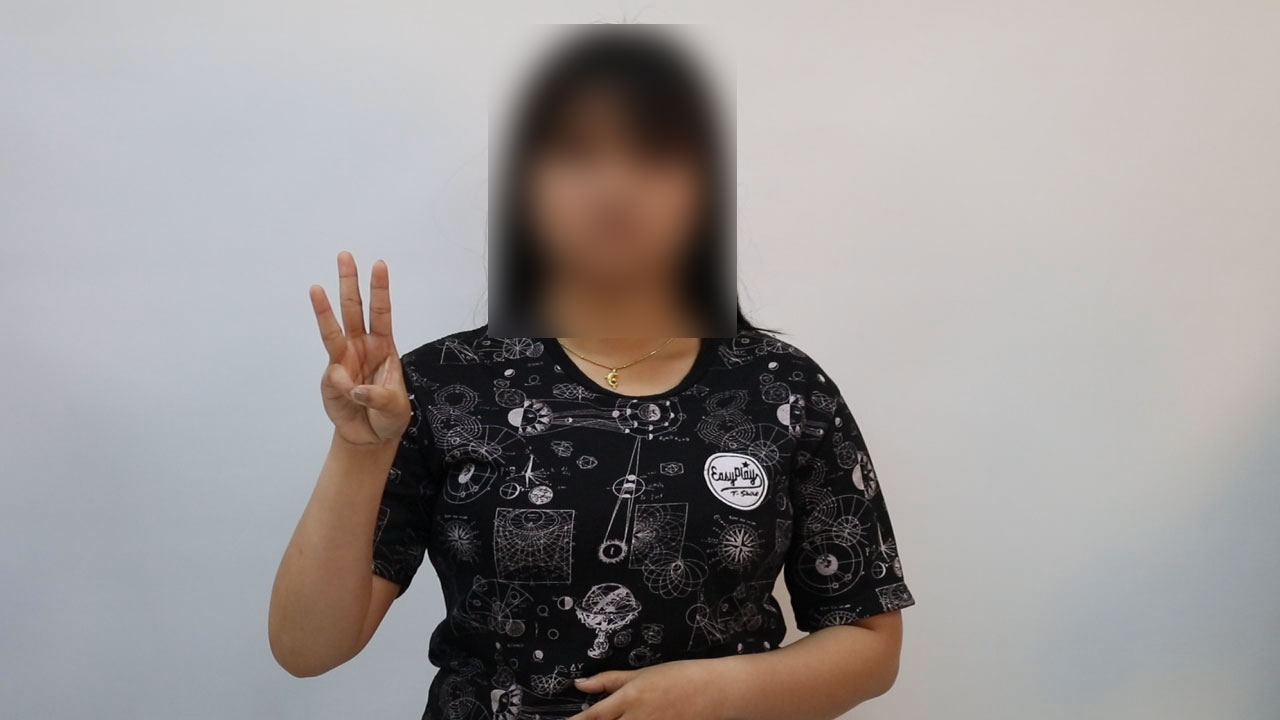wor: (296, 242, 419, 463)
